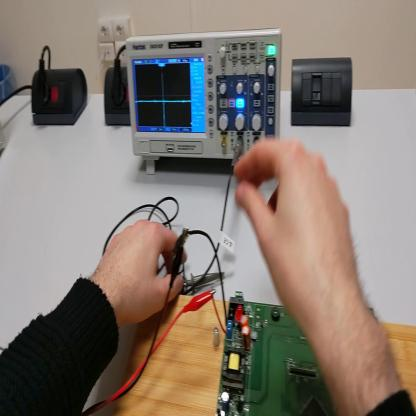hand: (234, 139, 364, 329), (100, 222, 189, 327)
low voltage board: (188, 229, 334, 415)
oscilloscope: (125, 30, 284, 175)
oscilloscope probe tip: (183, 272, 227, 296)
socket: (29, 68, 93, 129), (106, 67, 131, 128)
working area: (118, 289, 416, 414)
